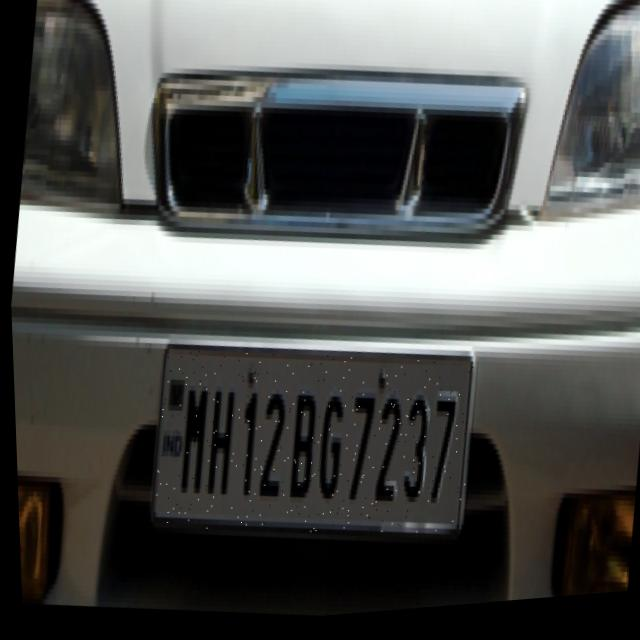license_plate: (143, 331, 480, 568)
